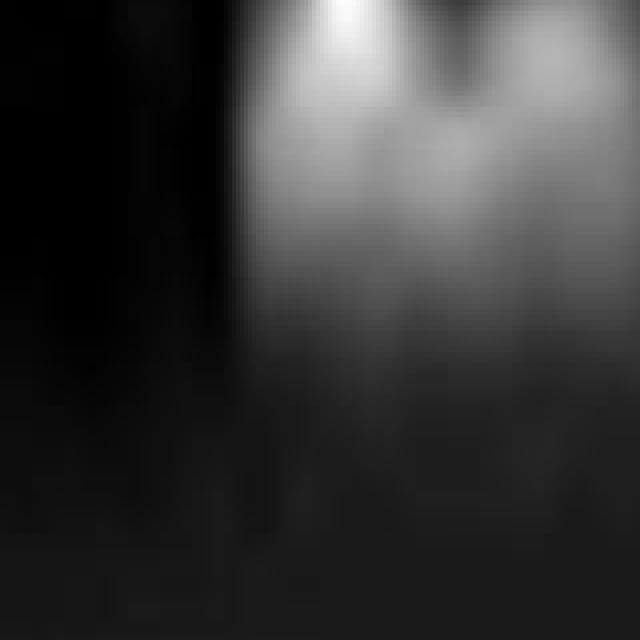person: (193, 1, 457, 406), (429, 1, 640, 449)
